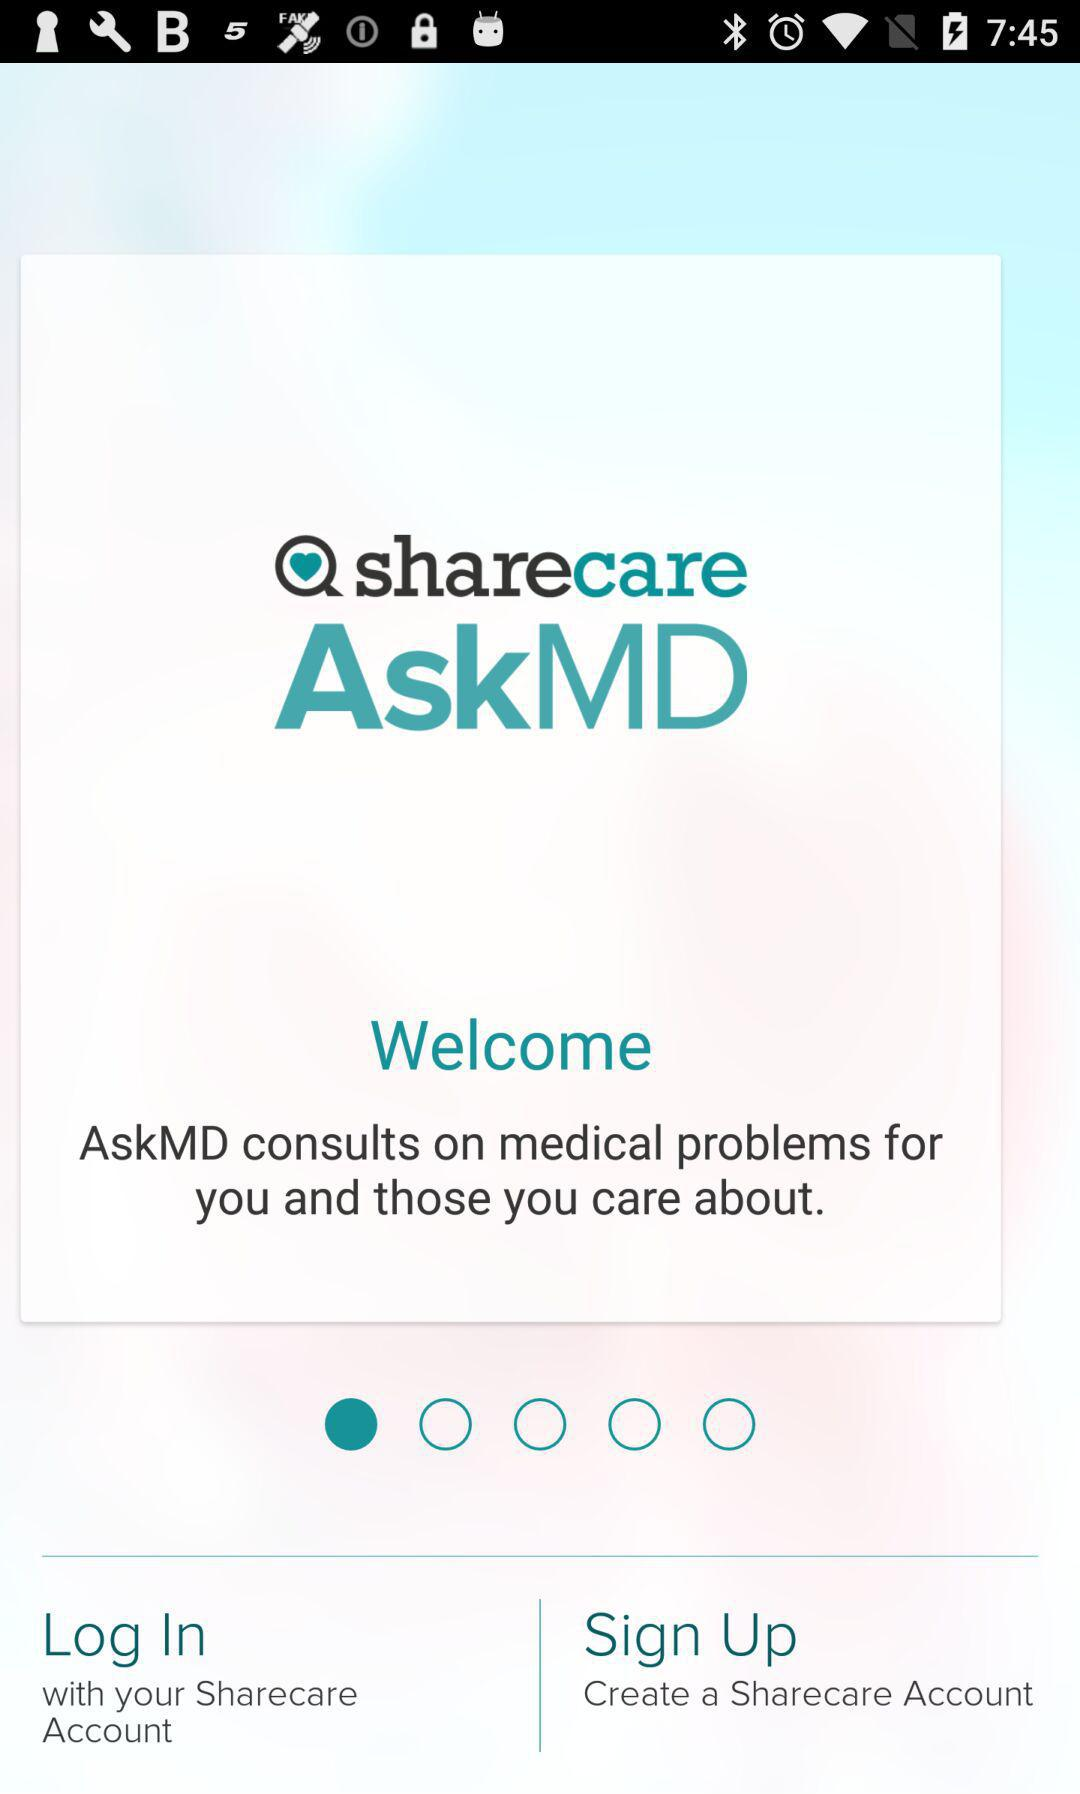Image: (272, 532, 749, 732)
PageIndicator: (323, 1395, 758, 1454)
Text: (79, 1121, 944, 1226), (41, 1679, 357, 1745), (370, 1017, 653, 1074), (584, 1679, 1035, 1708), (585, 1609, 797, 1668), (45, 1612, 206, 1668)
UpperTaskBar: (1, 1, 1080, 64)
